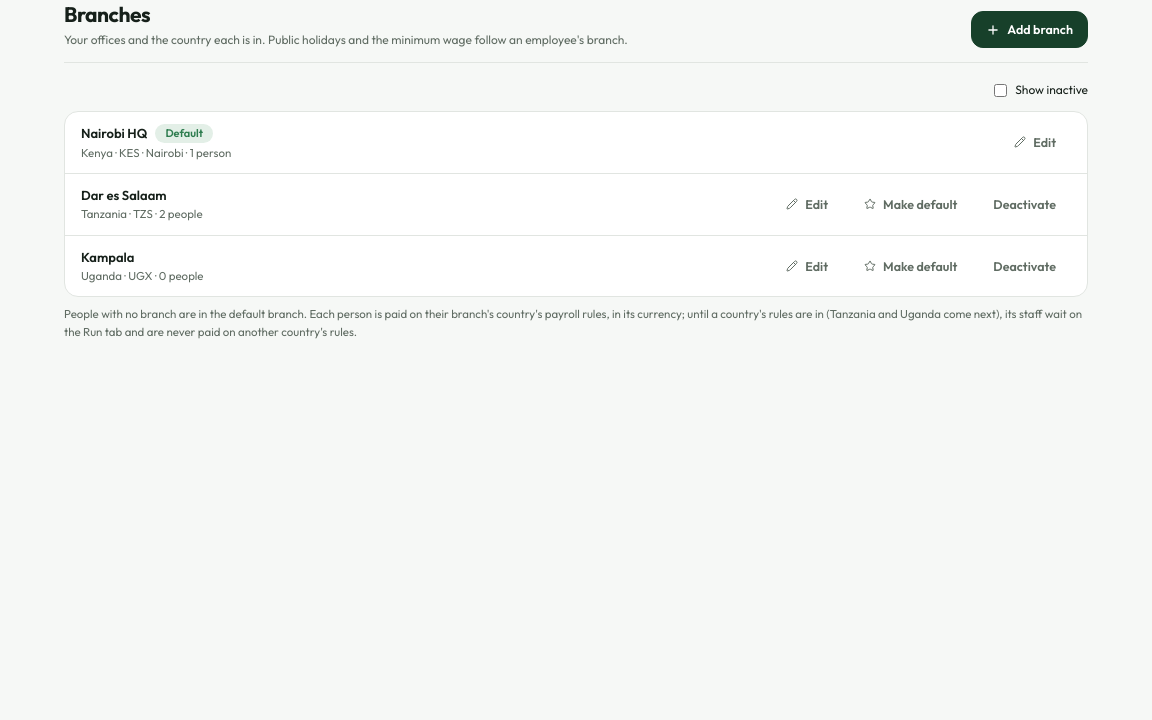
Test: Branches page › asks where to move the people of a branch before deactivating it
Later steps or results of the test are not shown.
Step 1. Click the button with aria-label "Deactivate Dar es Salaam" → (1025, 204), box [978,186,1071,223]
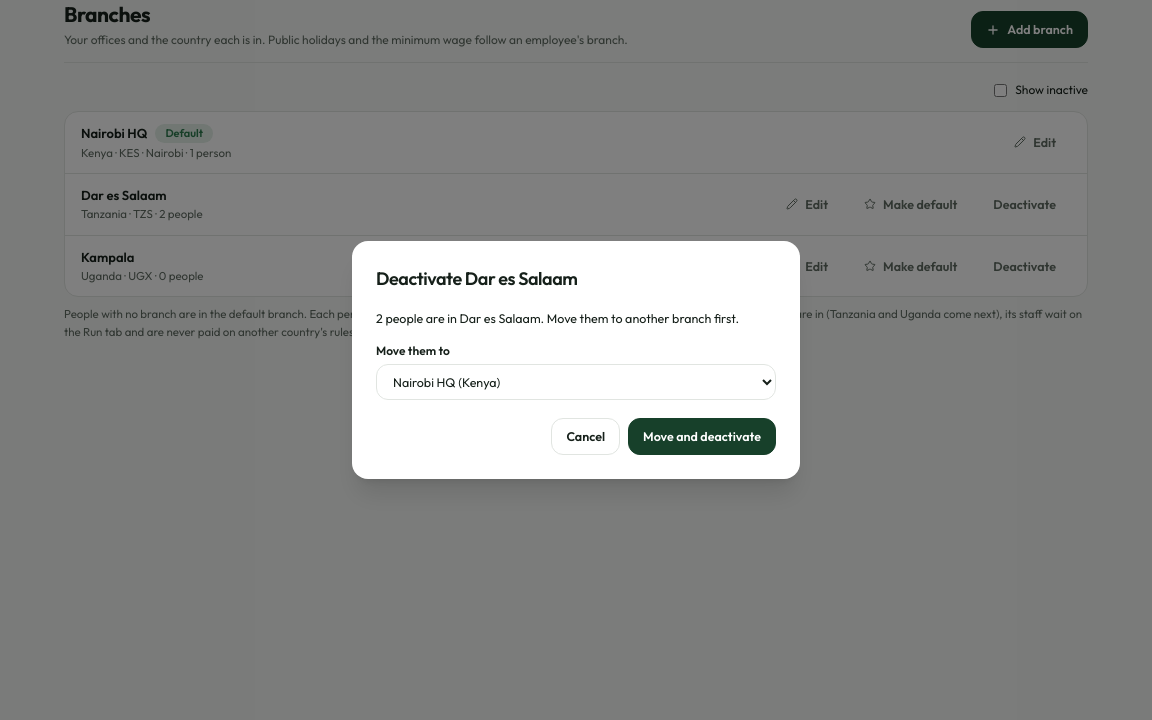
expect the dialog shows "2 people are in Dar es Salaam": met, box [352,241,800,479]
